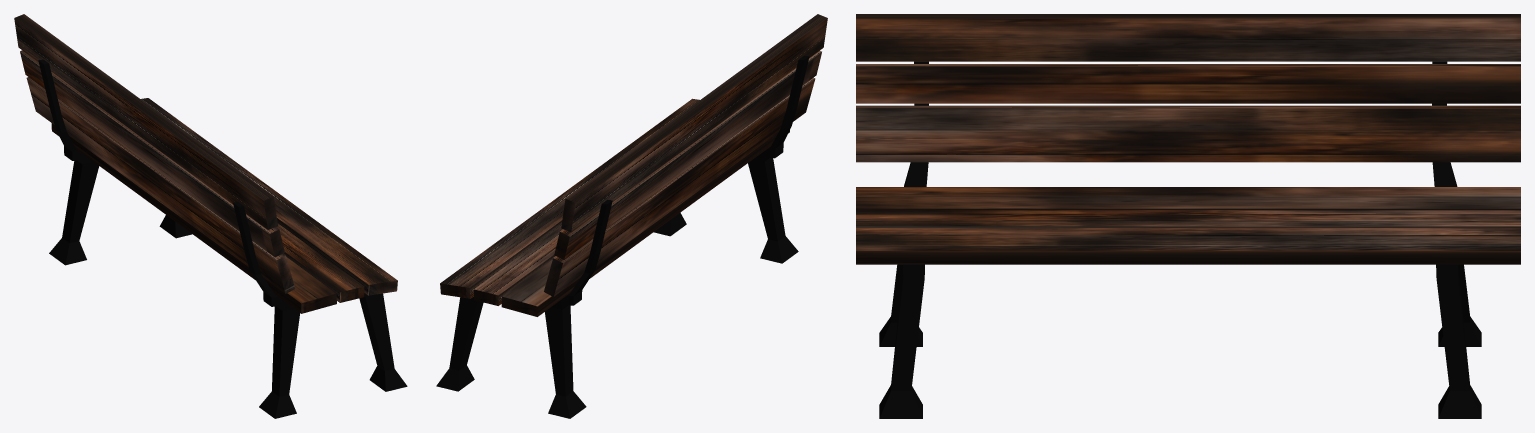
File: GrandHeresyBench.fbx
3 views of the same model, side by side, from view 1: azimuth 30°, elevation 25°; view 2: azimuth 150°, elevation 25°; view 3: azimuth 270°, elevation 25° (orthographic). The views are drawn at different scales.
Parts seen in each view (by area): view 1: TopPlank1, TopPlank3, RightSideBar, TopPlank2, BottomPlank3, LeftSideBar, BottomPlank1, BottomPlank2; view 2: TopPlank1, TopPlank3, LeftSideBar, TopPlank2, BottomPlank3, RightSideBar, BottomPlank1, BottomPlank2; view 3: TopPlank3, TopPlank1, TopPlank2, BottomPlank3, BottomPlank1, BottomPlank2, LeftSideBar, RightSideBar.
Part boxes in pixels (left/top/right/bottom): TopPlank1: left=14, top=14, right=277, bottom=229; TopPlank3: left=26, top=77, right=295, bottom=293; RightSideBar: left=233, top=202, right=407, bottom=418; TopPlank2: left=20, top=50, right=284, bottom=257; BottomPlank3: left=141, top=98, right=397, bottom=295; LeftSideBar: left=38, top=59, right=192, bottom=265; BottomPlank1: left=51, top=123, right=336, bottom=313; BottomPlank2: left=276, top=223, right=364, bottom=302; TopPlank1: left=561, top=14, right=827, bottom=232; TopPlank3: left=544, top=77, right=815, bottom=296; LeftSideBar: left=436, top=199, right=612, bottom=418; TopPlank2: left=554, top=50, right=821, bottom=259; BottomPlank3: left=440, top=98, right=699, bottom=298; RightSideBar: left=654, top=55, right=809, bottom=263; BottomPlank1: left=501, top=130, right=789, bottom=316; BottomPlank2: left=474, top=225, right=562, bottom=305; TopPlank3: left=856, top=105, right=1520, bottom=162; TopPlank1: left=856, top=14, right=1520, bottom=61; TopPlank2: left=856, top=64, right=1520, bottom=103; BottomPlank3: left=856, top=228, right=1520, bottom=264; BottomPlank1: left=856, top=187, right=1520, bottom=210; BottomPlank2: left=856, top=210, right=1520, bottom=228; LeftSideBar: left=1432, top=61, right=1481, bottom=418; RightSideBar: left=879, top=61, right=928, bottom=418.
Bounding box in the file's own units: 212 × 300 × 587.
2 materials, 1 textured.
